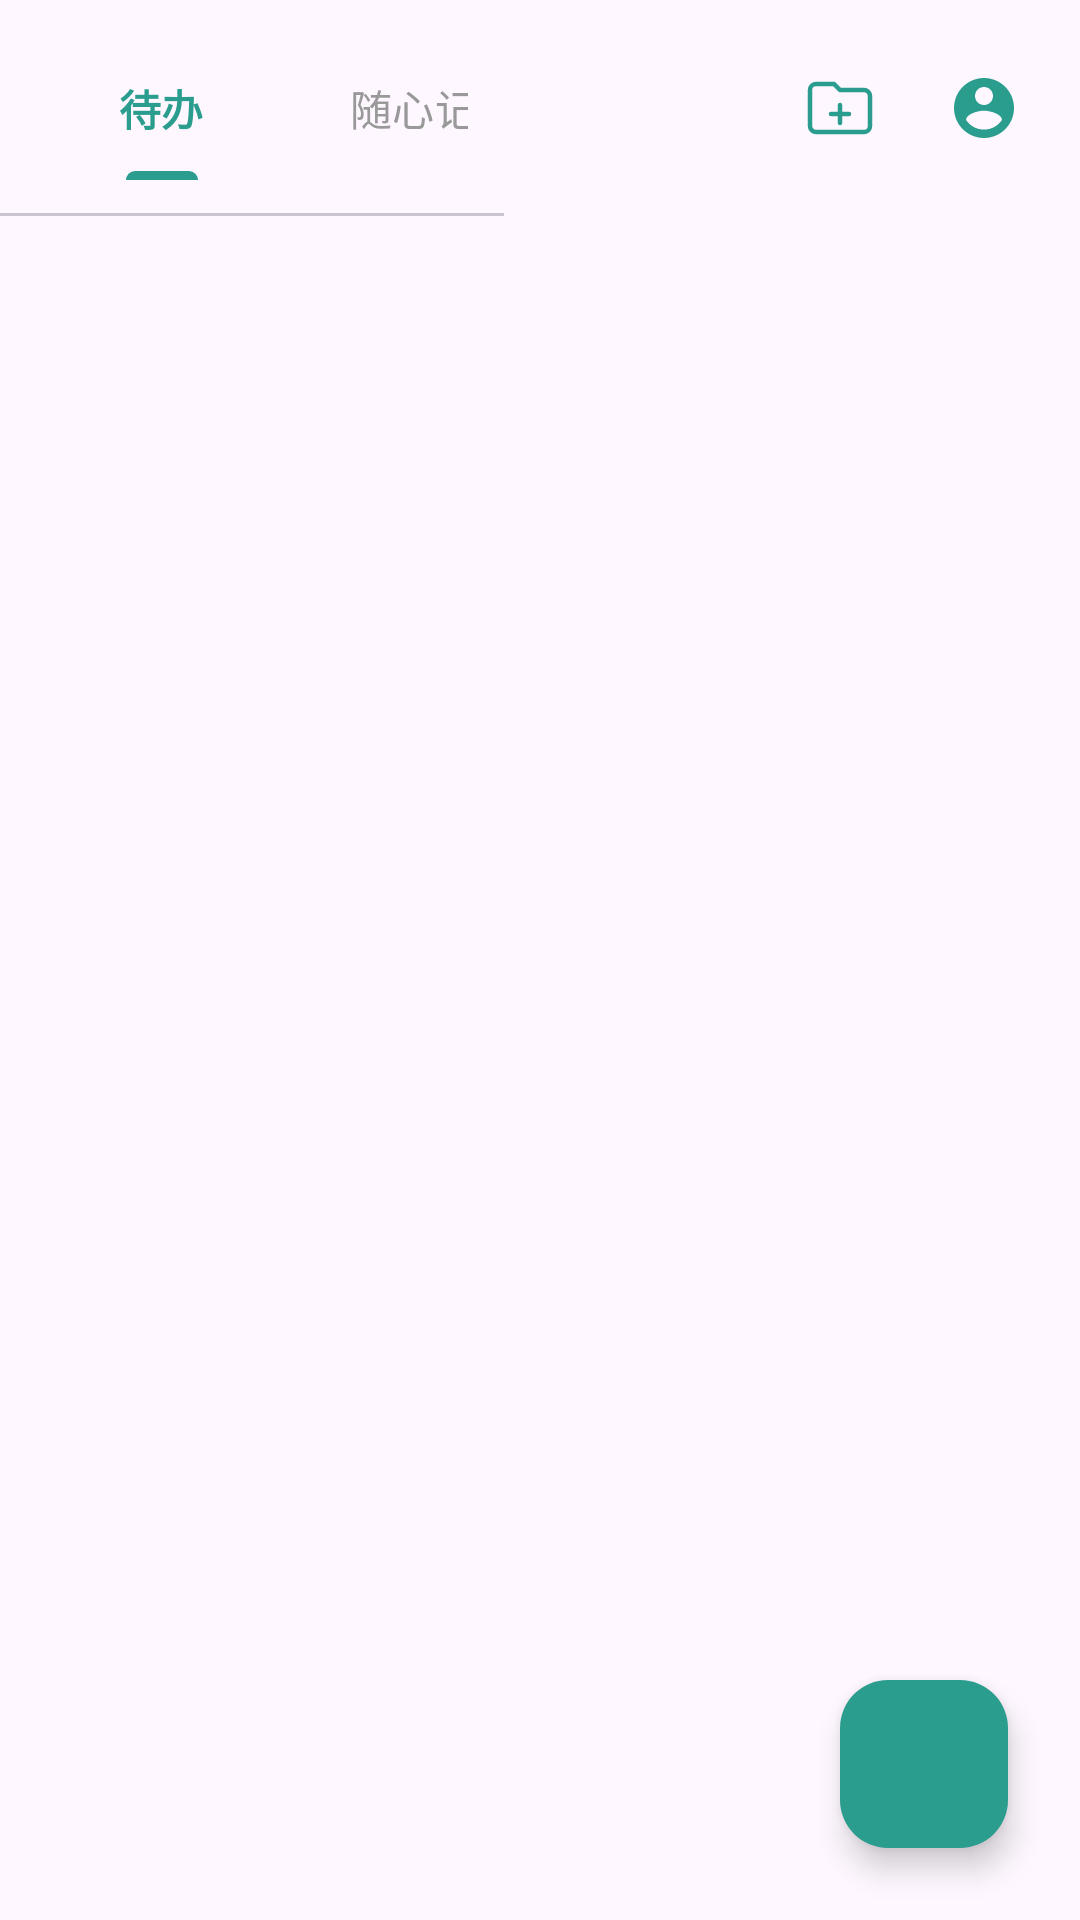

Screen size 1080px x 1920px. Icon name, then its box in pixels as (x1=x1, y1=y1, x2=x2, y2=y2):
个人中心: (x1=954, y1=78, x2=1014, y2=138)
添加文件: (x1=807, y1=81, x2=873, y2=135)
